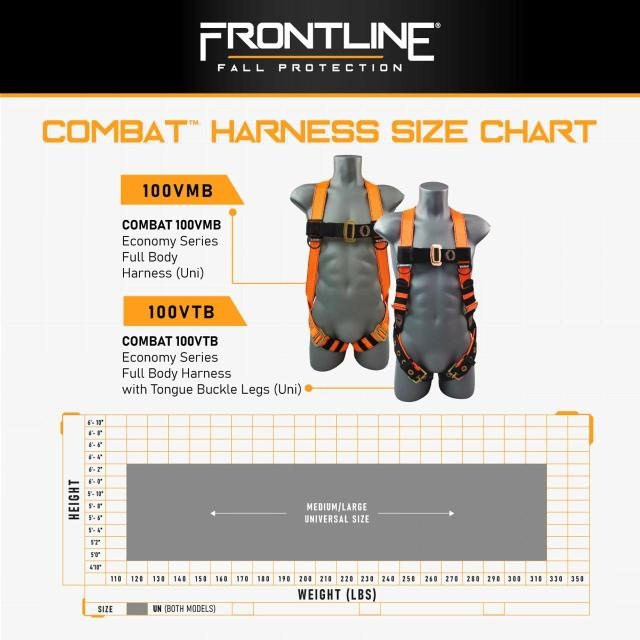Belt: (303, 178, 395, 354), (391, 206, 482, 383)
